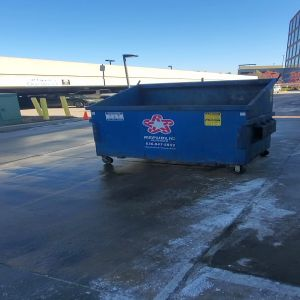Dumpster: (86, 77, 280, 176)
